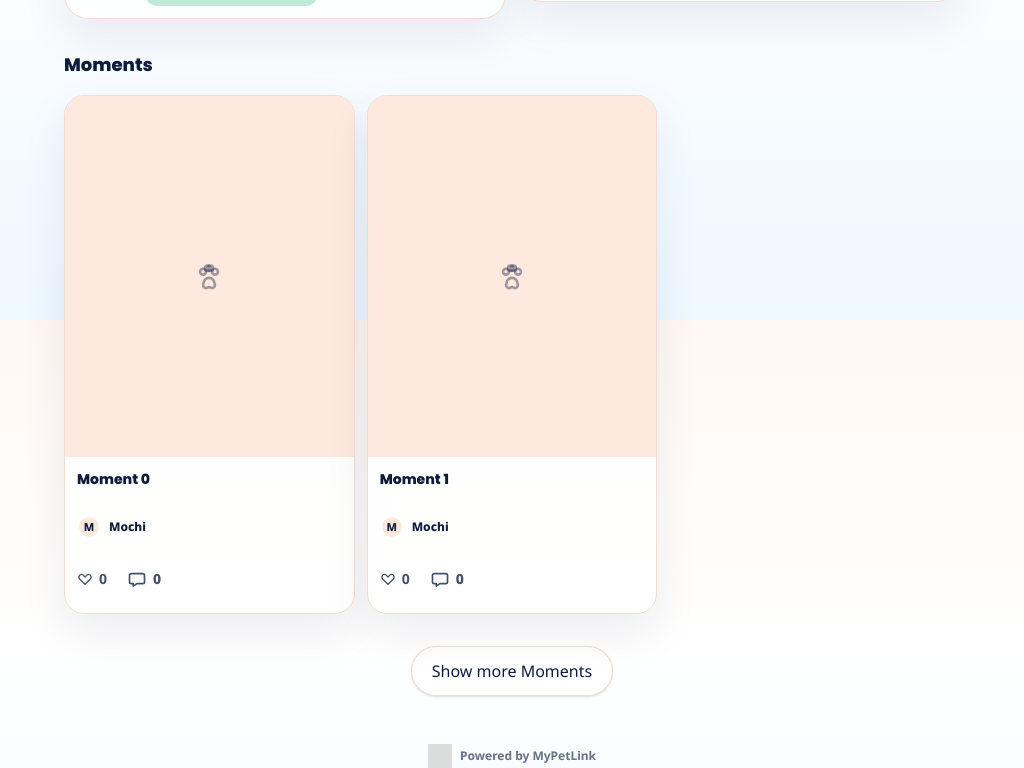
Scenario: OwnerSocialProfileView › loads another page of Moments on demand
(page scrolled)
Step 1. Click the button "Show more Moments" → (512, 671), box [411,646,613,696]
(page scrolled)
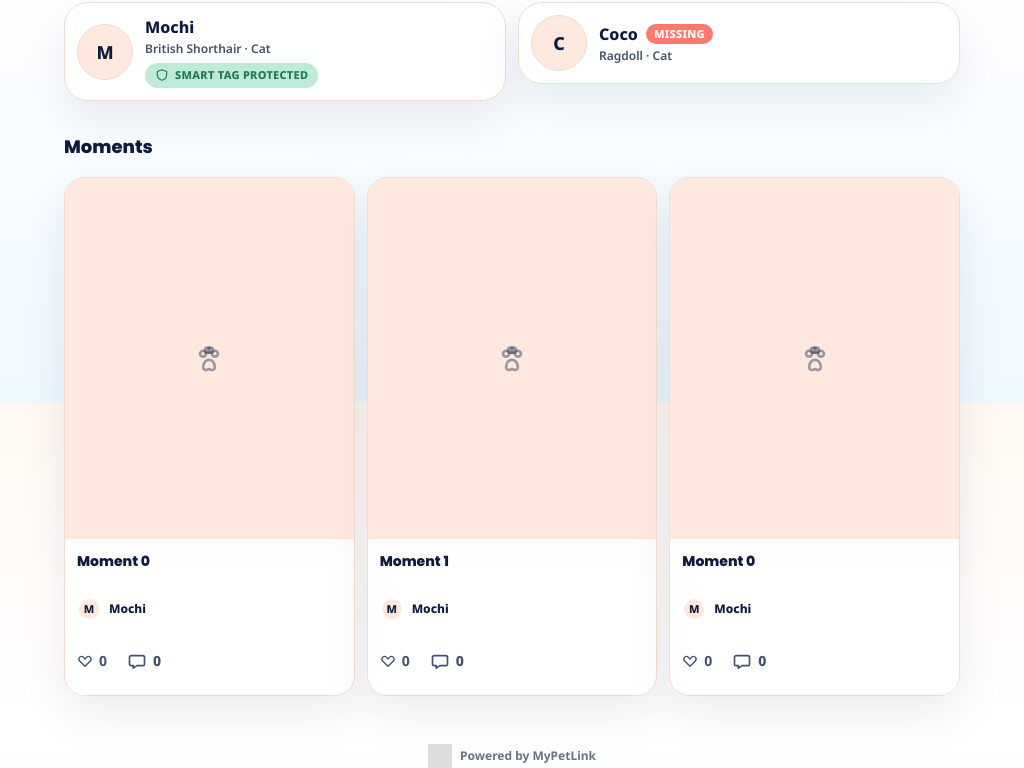
expect the button "Show more Moments" is gone: met
